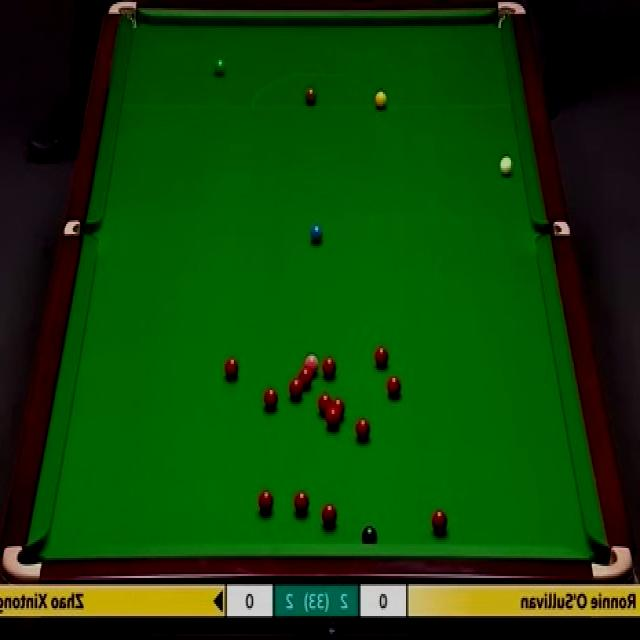black-ball: (358, 525, 376, 544)
blue-ball: (310, 225, 324, 242)
brown-ball: (304, 88, 317, 110)
green-ball: (215, 58, 225, 73)
pink-ball: (304, 354, 318, 374)
red-ball: (316, 393, 333, 419), (320, 504, 338, 528), (294, 488, 309, 516), (432, 509, 449, 533), (352, 417, 368, 441), (224, 354, 240, 378), (386, 377, 402, 398), (375, 346, 388, 370), (326, 408, 340, 430), (258, 491, 272, 513), (290, 380, 303, 402), (331, 399, 345, 418), (299, 367, 313, 386), (264, 390, 278, 408), (324, 357, 337, 376)
white-ball: (499, 154, 515, 176)
yellow-ball: (375, 90, 387, 110)
